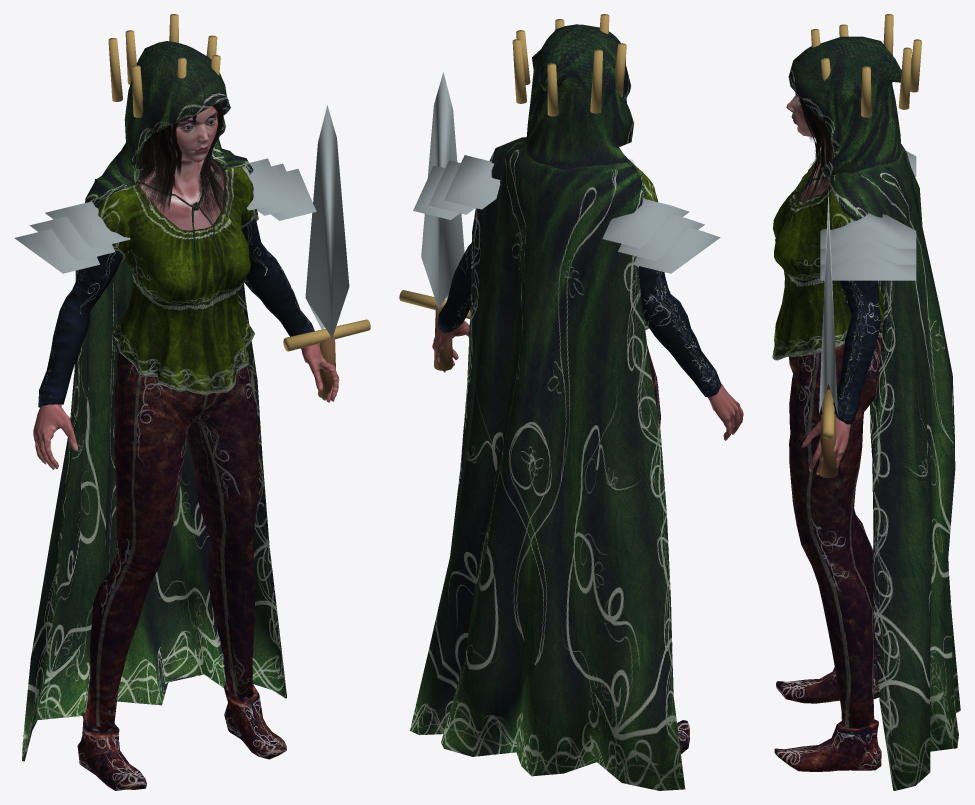
Rendered from actor-norowas.glb.
3 views of the same model, side by side, from view 1: azimuth 30°, elevation 25°; view 2: azimuth 150°, elevation 25°; view 3: azimuth 270°, elevation 25° (orthographic). The views are drawn at different scales.
Visible parts, largest first — view 1: LOW_body · posed; view 2: LOW_body · posed; view 3: LOW_body · posed.
Part boxes in pixels (x1,y1,x2,y2): LOW_body · posed: (14,14,370,790); LOW_body · posed: (399,14,743,790); LOW_body · posed: (772,14,960,790).
Size of the model in its own units: 0.9754 by 2.01 by 0.4911.
8 materials, 5 textured.
